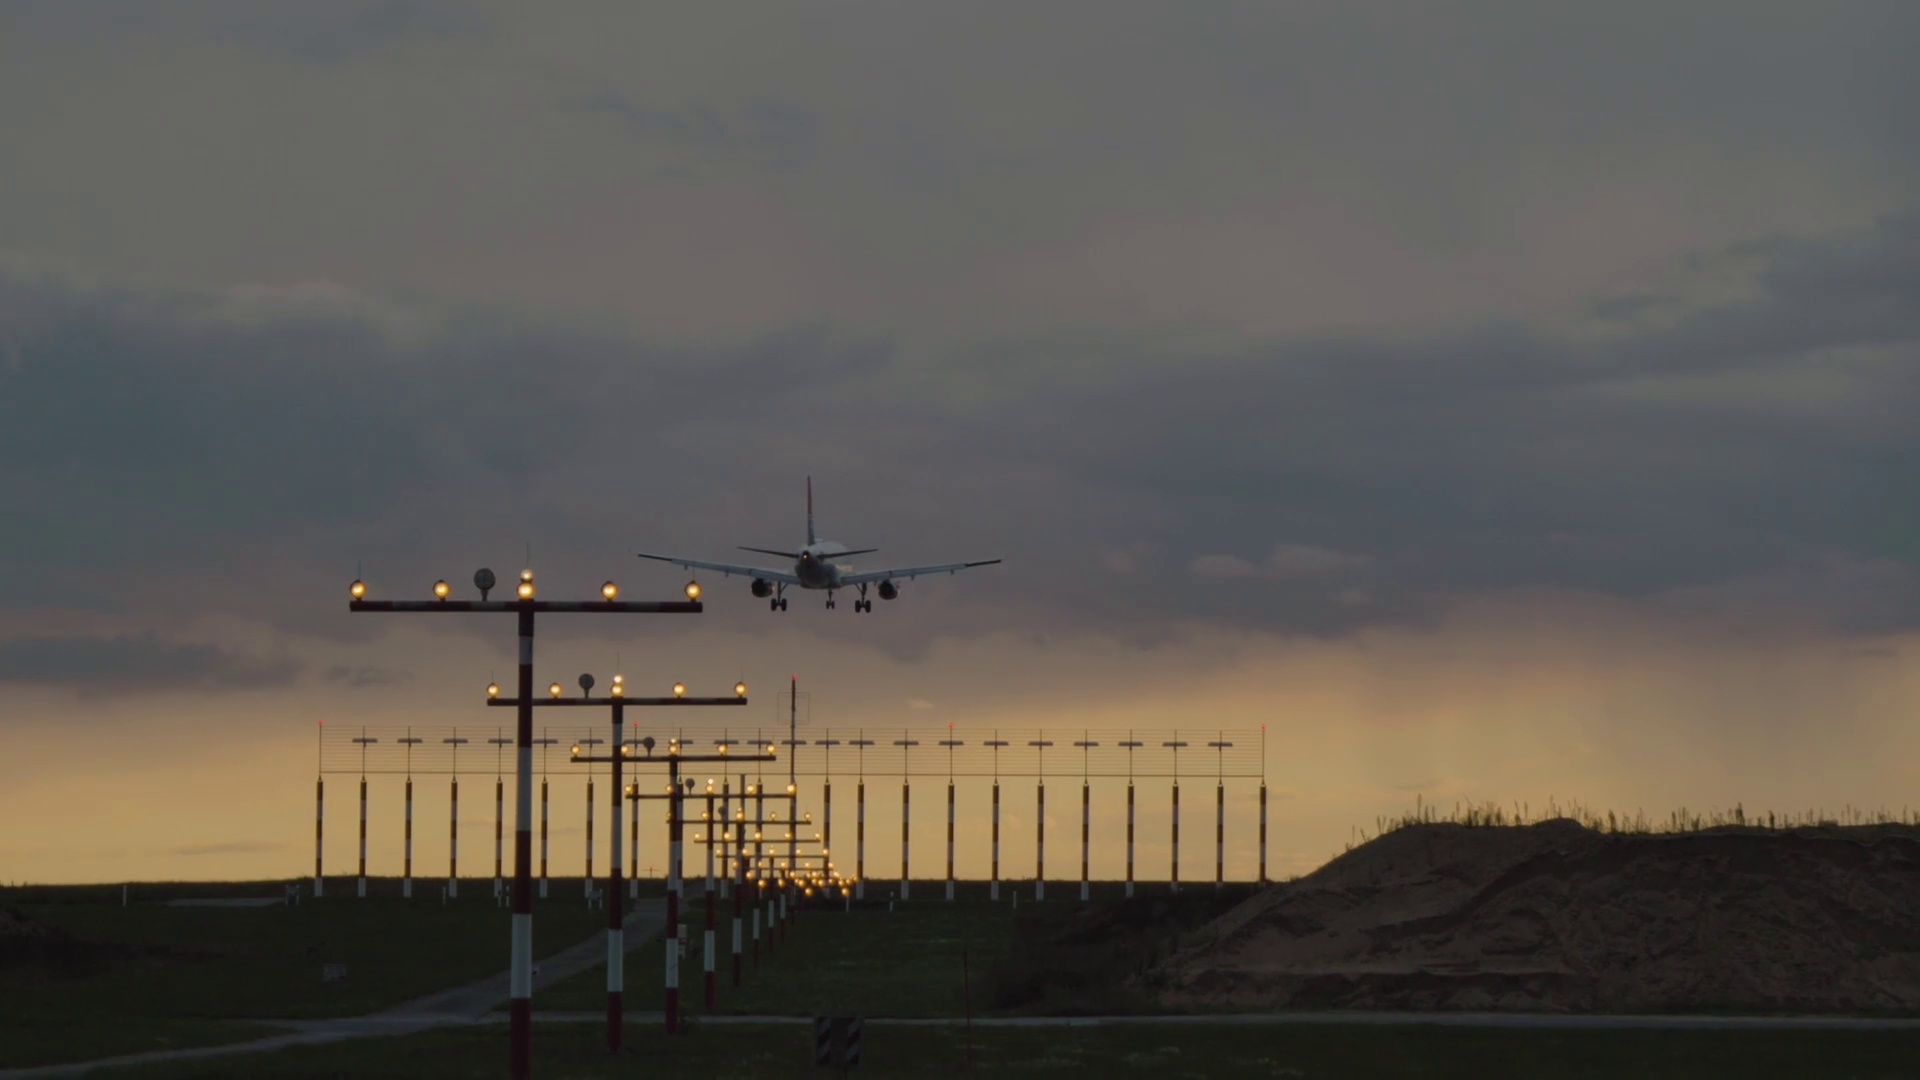plane: (636, 473, 1007, 612)
